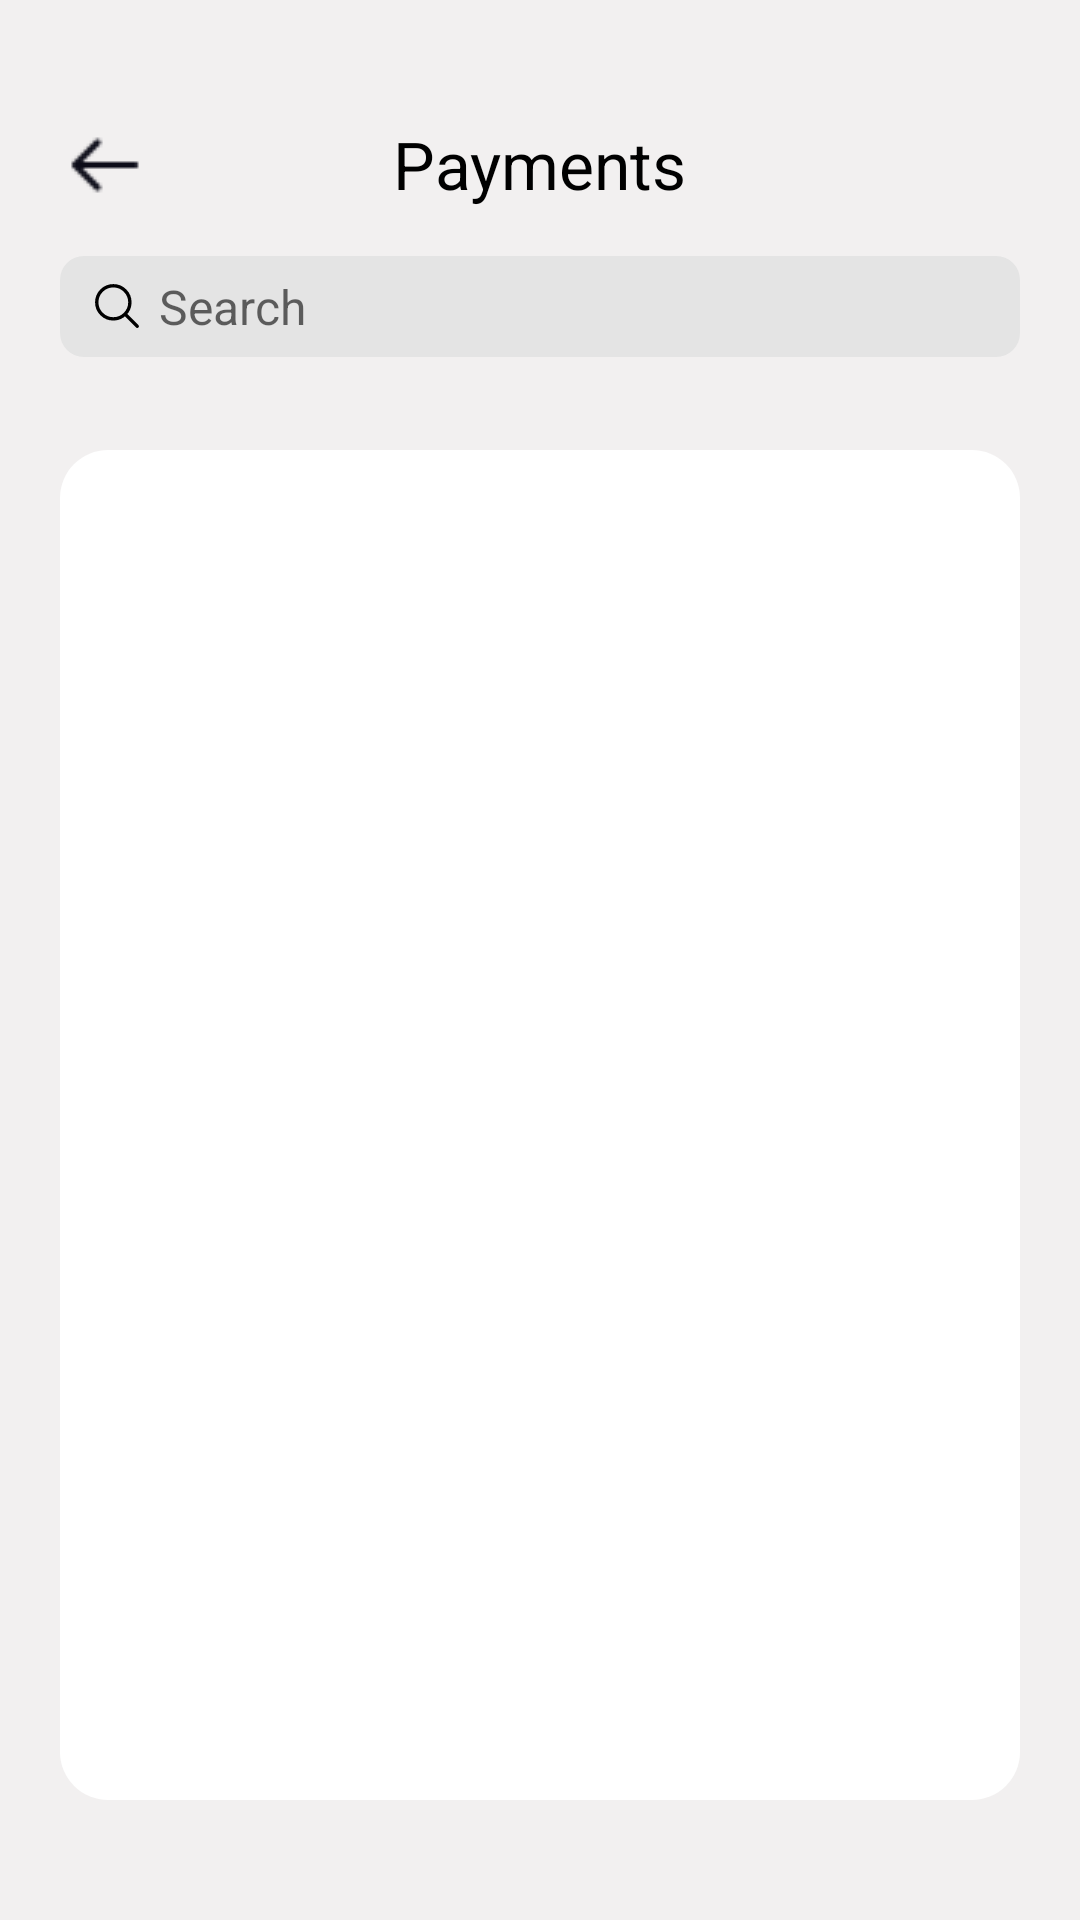

Icons on this 1080×1920 Android screen, each with the point to tap as (x,y):
left: (105,165)
